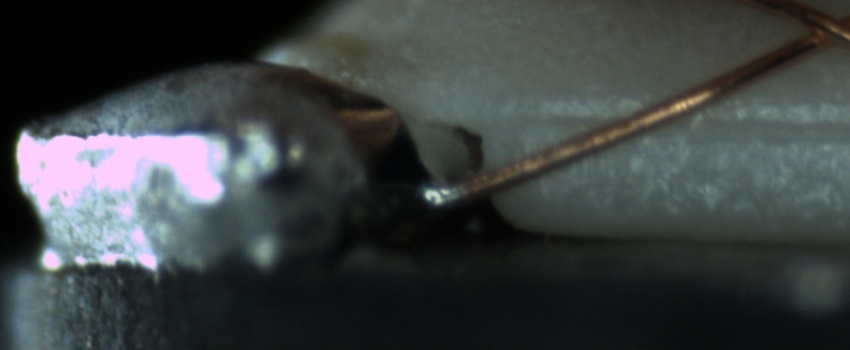CL: (776, 4, 849, 57)
DL: (516, 86, 848, 153)
